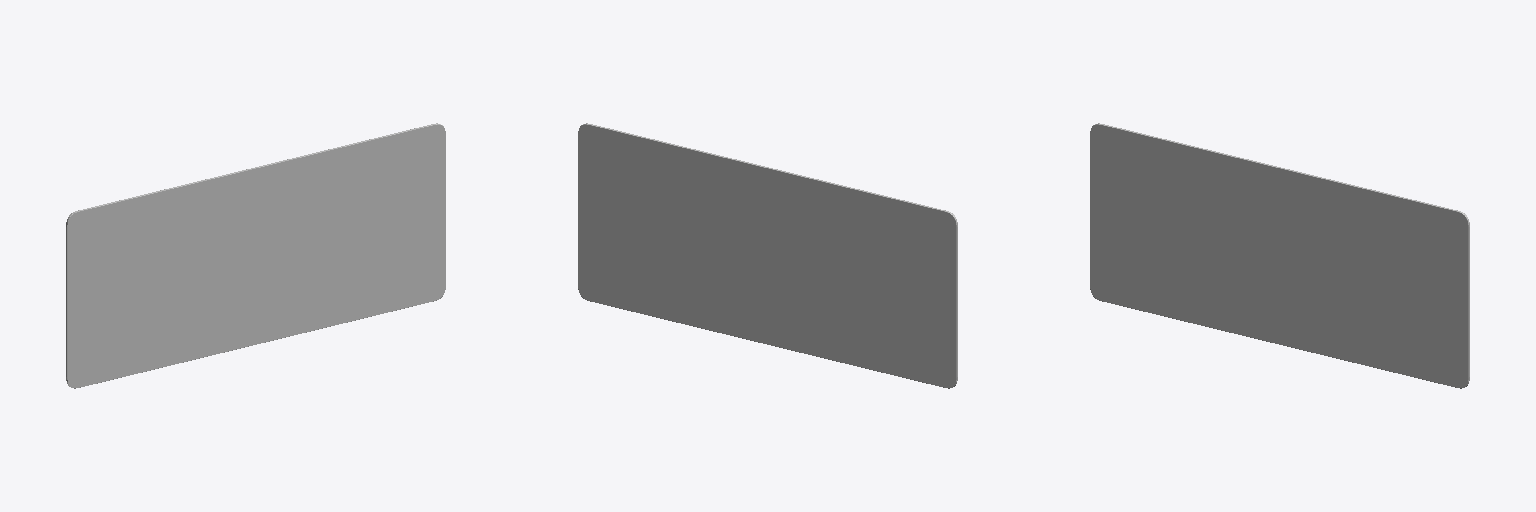
Rendered from mouse_pad.obj.
The picture shows the model from 3 angles: view 1: azimuth 30°, elevation 25°; view 2: azimuth 150°, elevation 25°; view 3: azimuth 330°, elevation 25°; orthographic projection.
Visible parts, largest first — view 1: keyboard_pad; view 2: keyboard_pad; view 3: keyboard_pad.
Boxes of the visible parts, x1,y1,x2,y2 form: keyboard_pad: [66, 123, 445, 388]; keyboard_pad: [578, 123, 957, 388]; keyboard_pad: [1090, 123, 1469, 388].
Bounding box in the file's own units: 337 × 150 × 2.